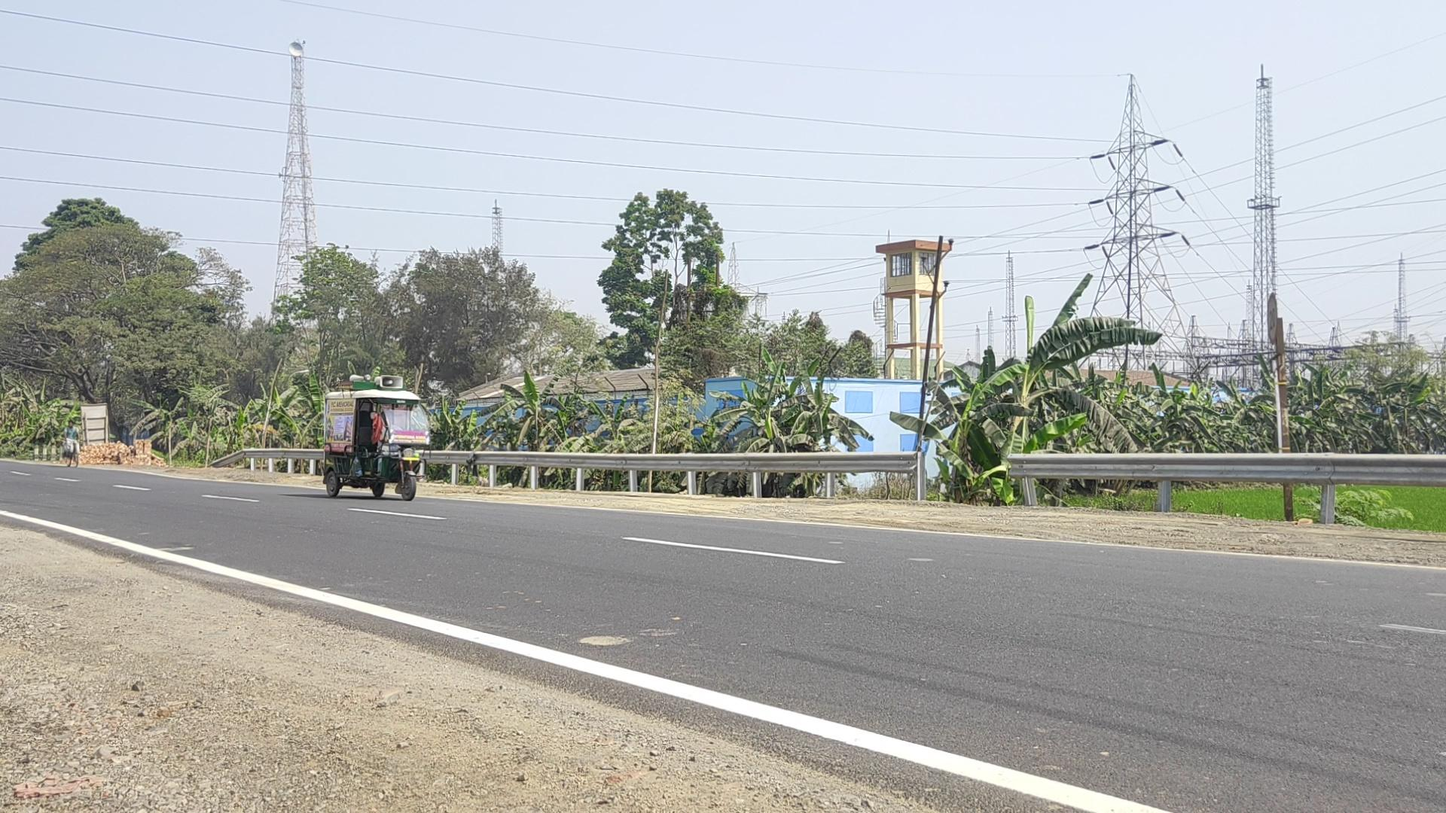Auto: (323, 374, 430, 502)
bike: (62, 420, 81, 468)
